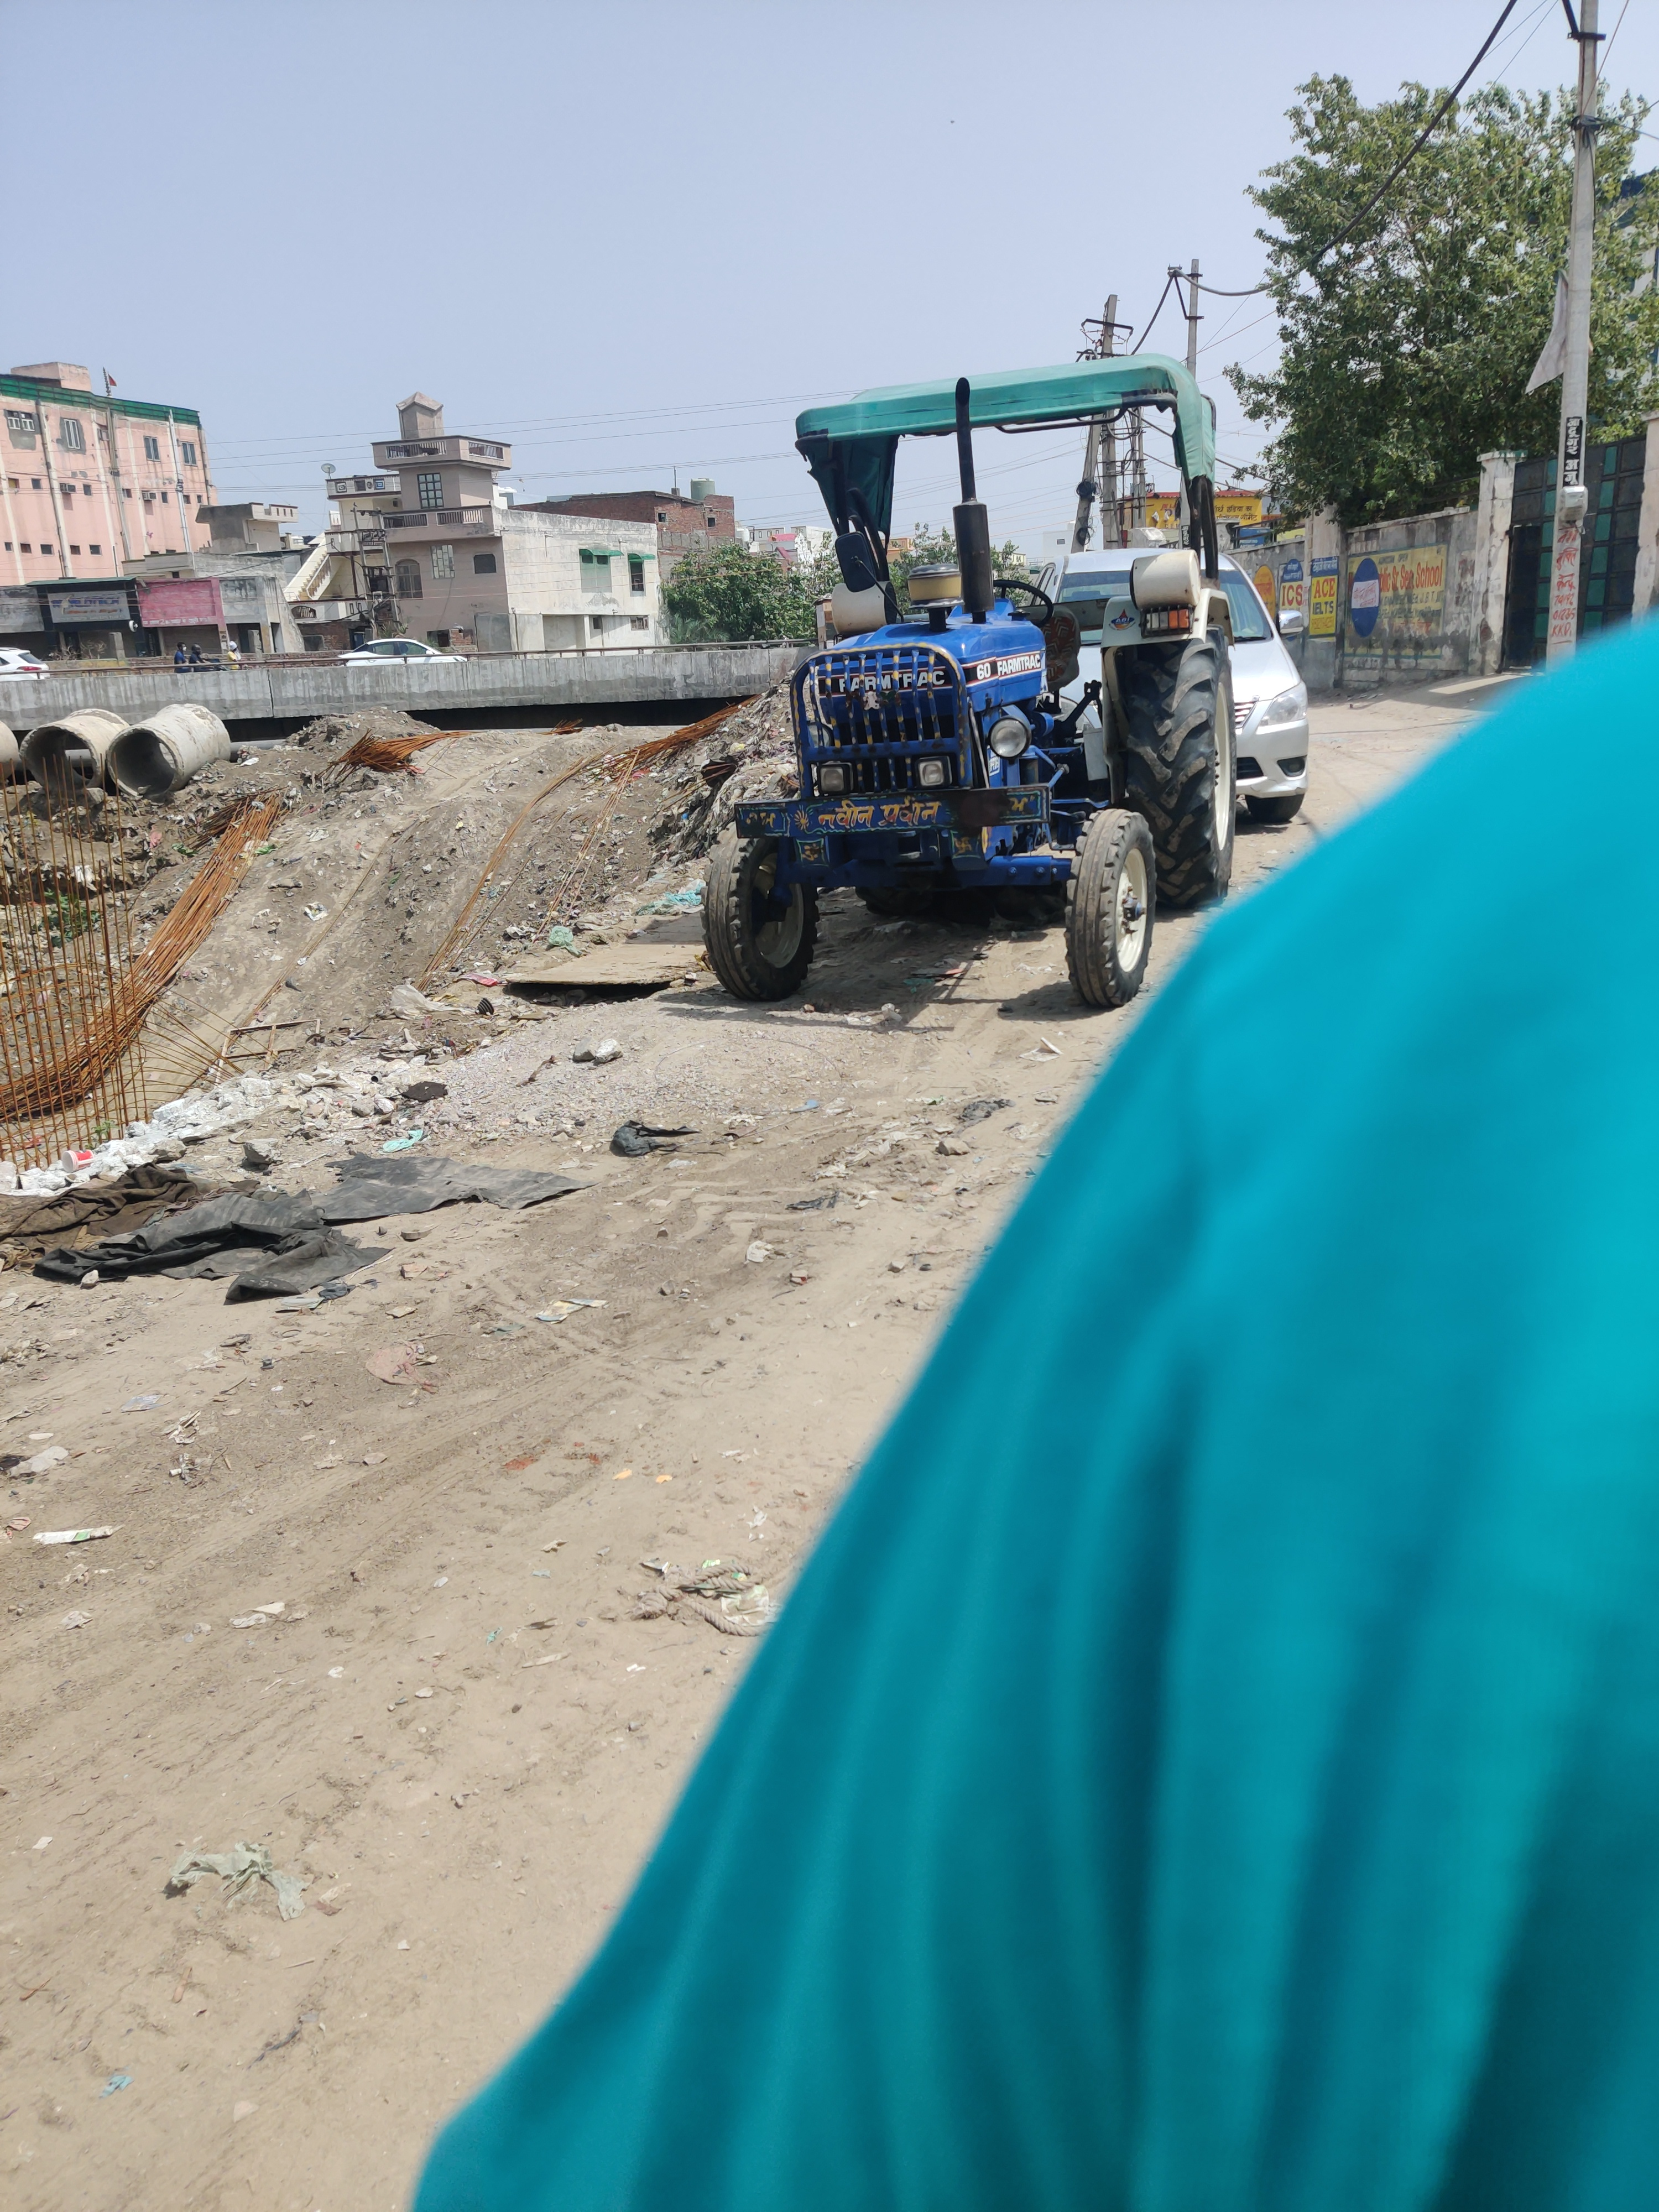tractor: (697, 350, 1241, 1012)
